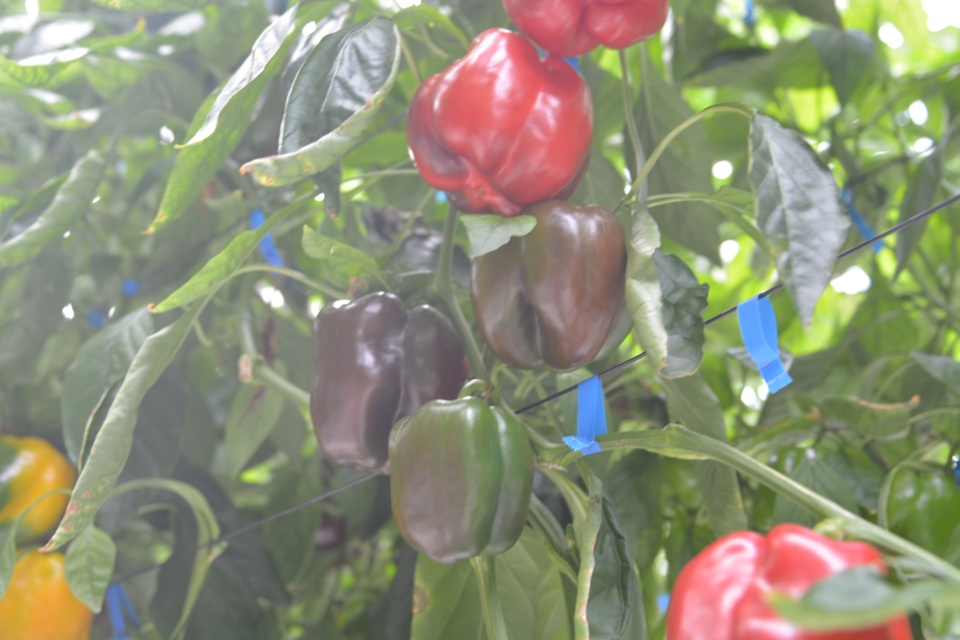fruit: (404, 26, 592, 216), (308, 288, 468, 477), (664, 520, 912, 640), (467, 199, 628, 374), (385, 393, 536, 565), (502, 0, 671, 59), (0, 433, 76, 546), (0, 545, 90, 640), (887, 464, 960, 564)
